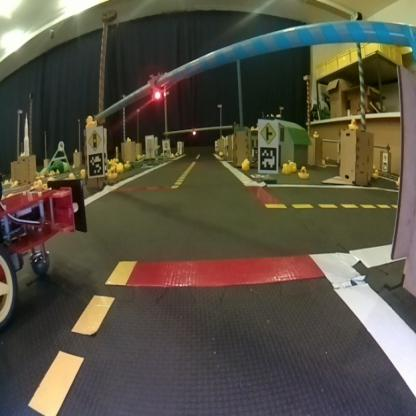duckie: (81, 106, 99, 132), (298, 162, 312, 192), (239, 153, 255, 173)
duckiebot: (0, 158, 95, 343)
